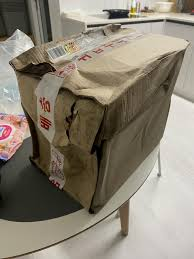damaged package: (6, 17, 125, 171), (59, 82, 112, 219)
